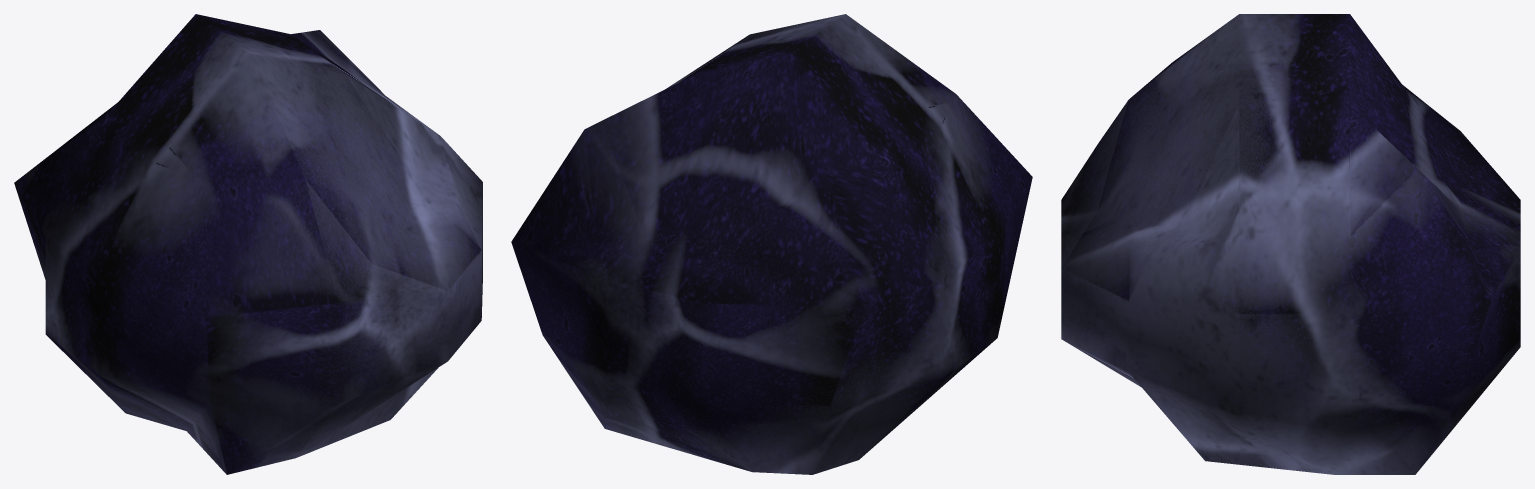
The model's file is rock_textured_rae.fbx.
3 views of the same model, side by side, from view 1: azimuth 30°, elevation 25°; view 2: azimuth 150°, elevation 25°; view 3: azimuth 270°, elevation 25° (orthographic).
Parts seen in each view (by area): view 1: Rock; view 2: Rock; view 3: Rock.
Boxes of the visible parts, <box> form: Rock: <box>14,14,482,474</box>; Rock: <box>511,14,1032,474</box>; Rock: <box>1061,14,1520,474</box>.
Size of the model in its own units: 0.6358 by 0.6092 by 0.656.
1 material, 1 textured.
